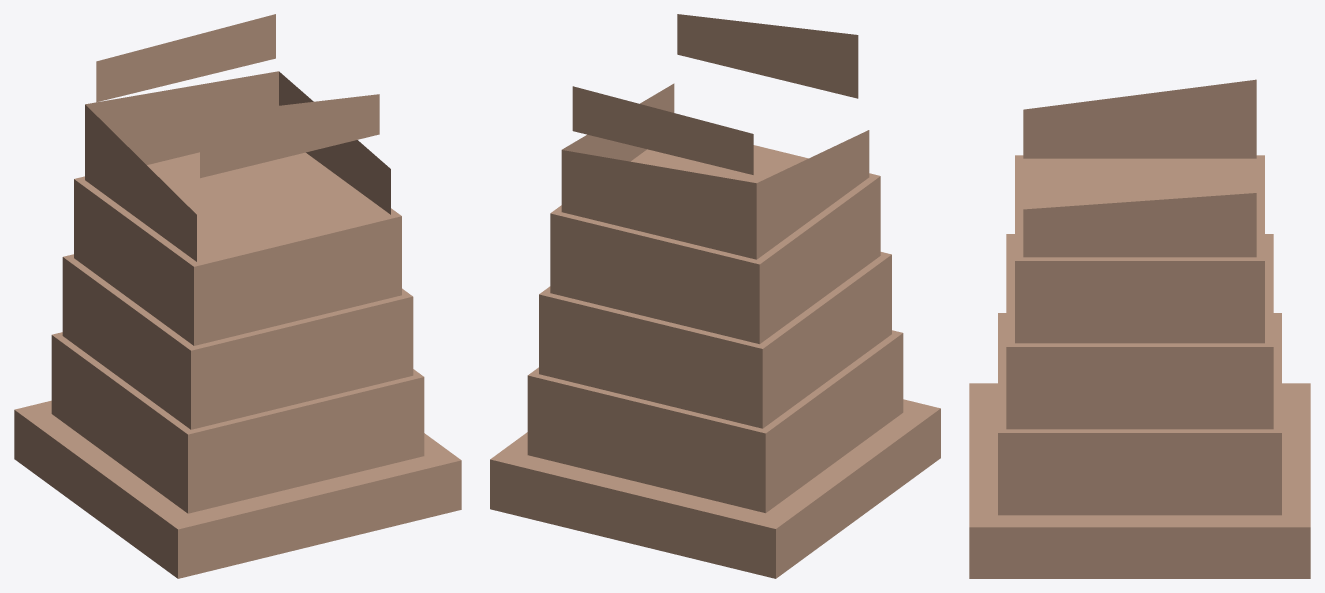
File: cham_temple_ruin.glb
The picture shows the model from 3 angles, left to right: view 1: azimuth 30°, elevation 25°; view 2: azimuth 150°, elevation 25°; view 3: azimuth 270°, elevation 25°; orthographic projection. The views are drawn at different scales.
Parts seen in each view (by area): view 1: ChamTempleRuin; view 2: ChamTempleRuin; view 3: ChamTempleRuin.
Boxes of the visible parts, <box> form: ChamTempleRuin: <box>14,14,461,578</box>; ChamTempleRuin: <box>490,14,940,578</box>; ChamTempleRuin: <box>969,79,1310,578</box>.
Size of the model in its own units: 6 by 8.68 by 6.
